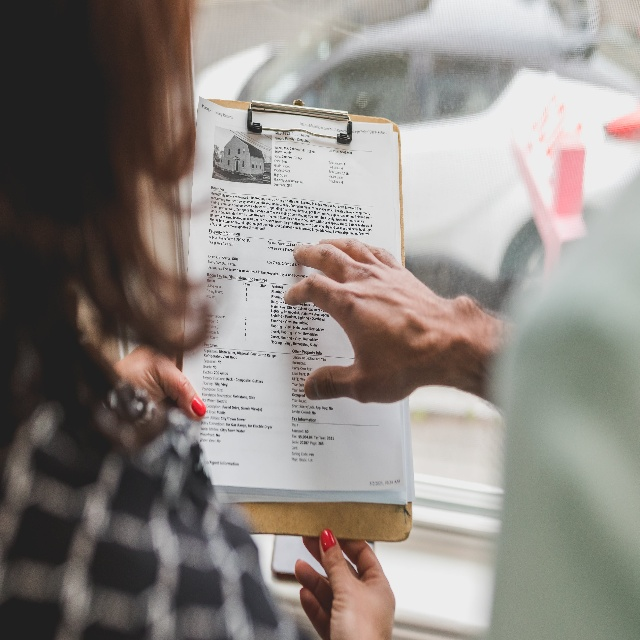Sin_guantes: (280, 227, 452, 406), (295, 527, 398, 640)
